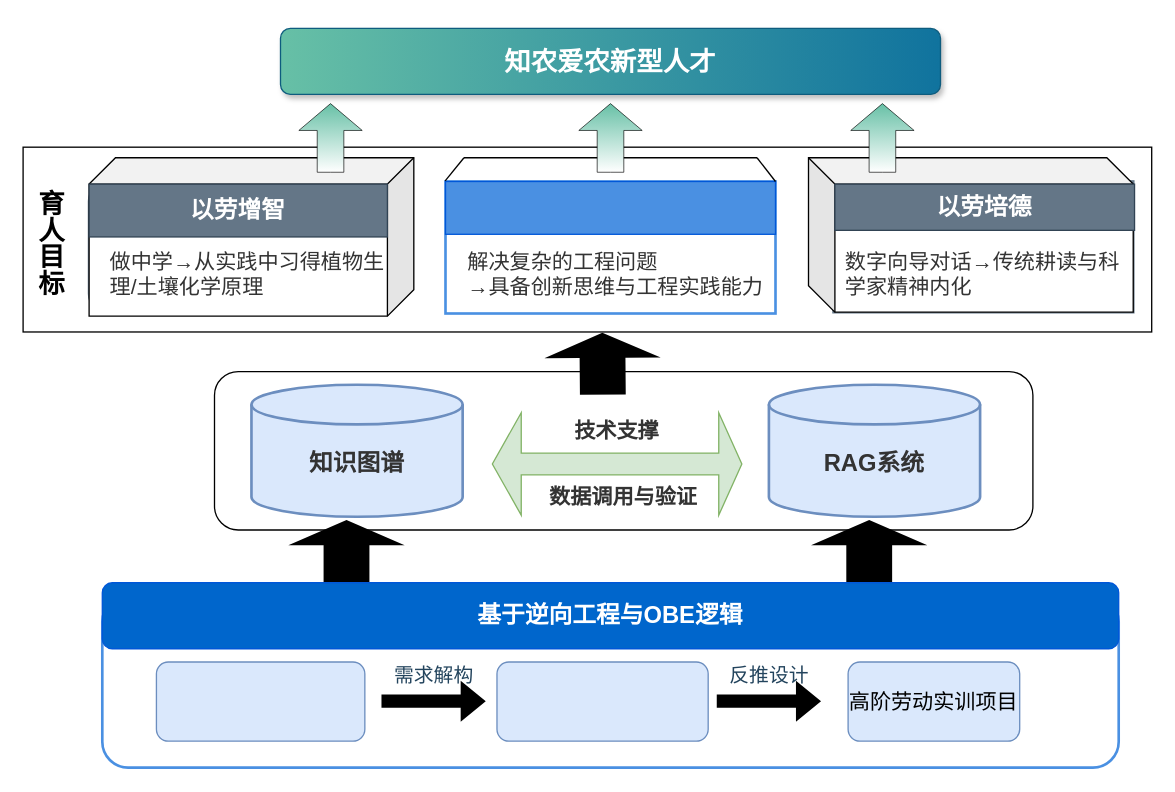
Some shapes in this 1175 by 792 pixel diagram are drawn without their labels. Here are the shapes that lost their labels. From the top down, the centre of each, then its label:
(x=610, y=207): 以劳提能
(x=260, y=701): 智慧农业产业需求 新质生产力岗位标准
(x=602, y=701): 能力图谱
